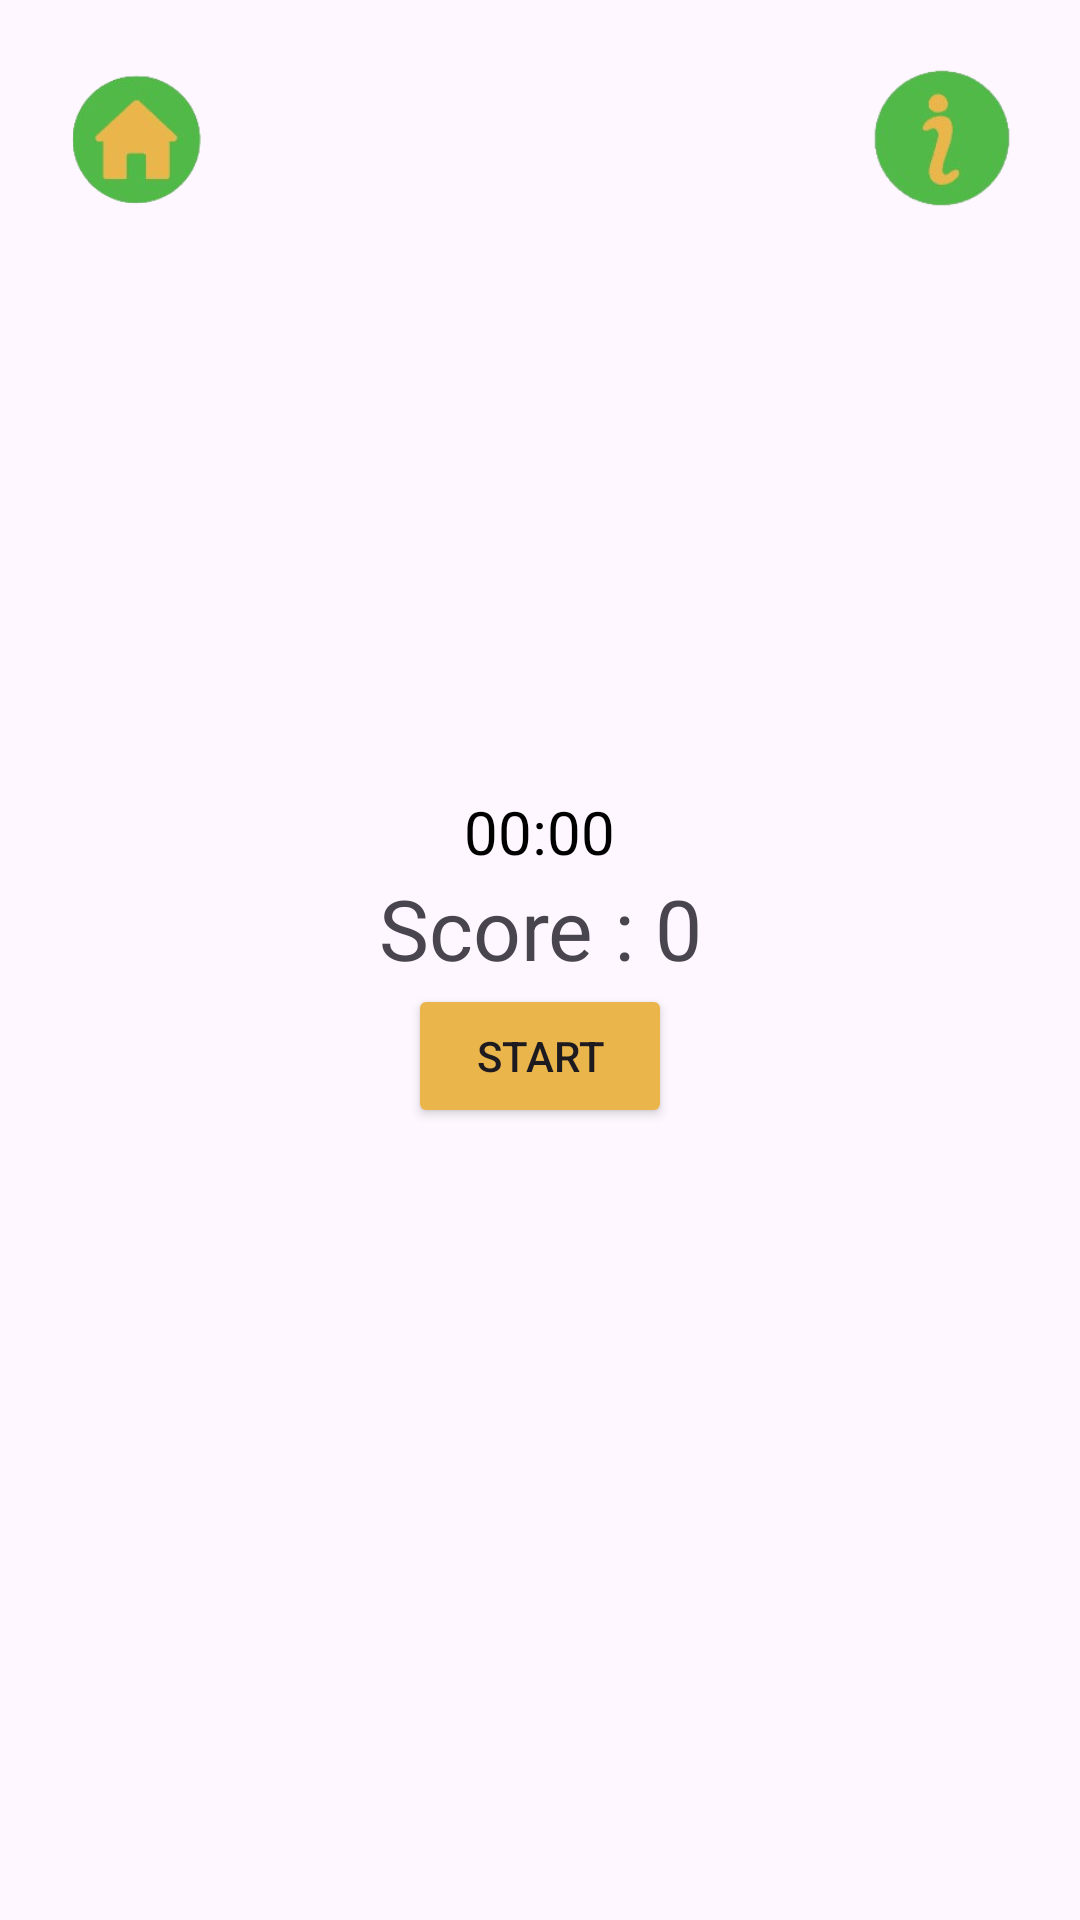

Icons on this 1080 x 1920 Android screen, each with its box as (x1, y1, x2, y2):
Ir para as informações: (874, 70, 1010, 206)
Voltar ao menu: (73, 75, 201, 203)
